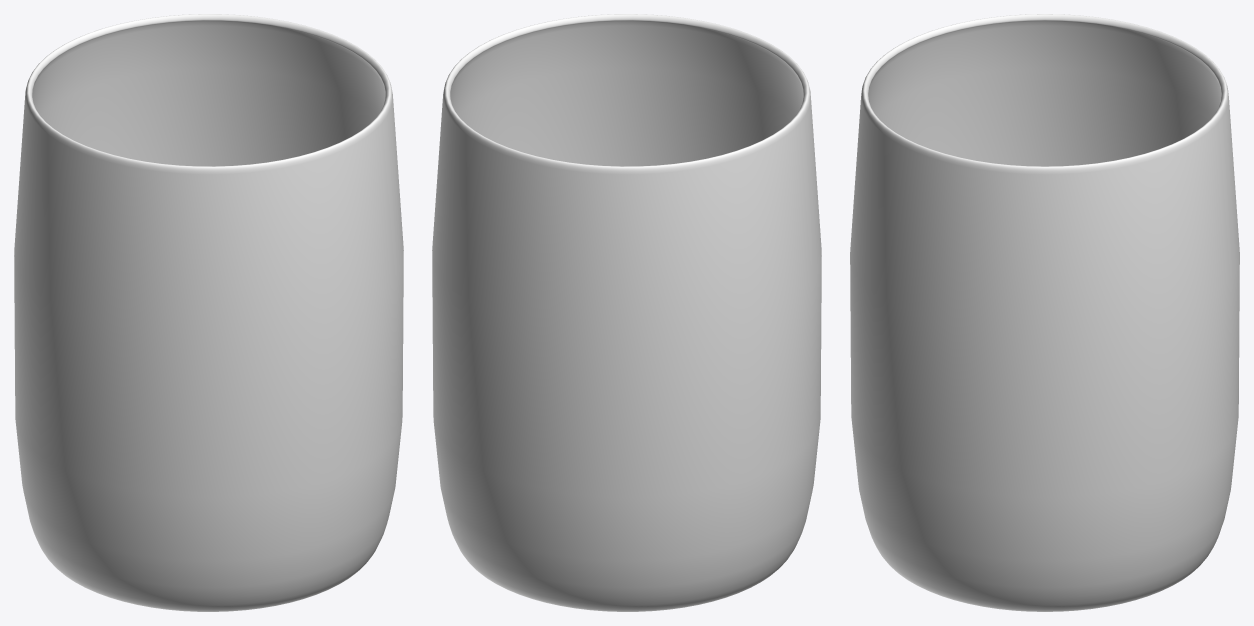
The model's file is Glas.fbx.
3 renders of one model, left to right at view 1: azimuth 30°, elevation 25°; view 2: azimuth 150°, elevation 25°; view 3: azimuth 270°, elevation 25°, orthographic.
Parts seen in each view (by area): view 1: Glas; view 2: Glas; view 3: Glas.
Part boxes in pixels (x1,y1,x2,y2): Glas: (14, 14, 403, 611); Glas: (432, 14, 821, 611); Glas: (850, 14, 1239, 611).
Size of the model in its own units: 15.56 by 20.09 by 15.56.
